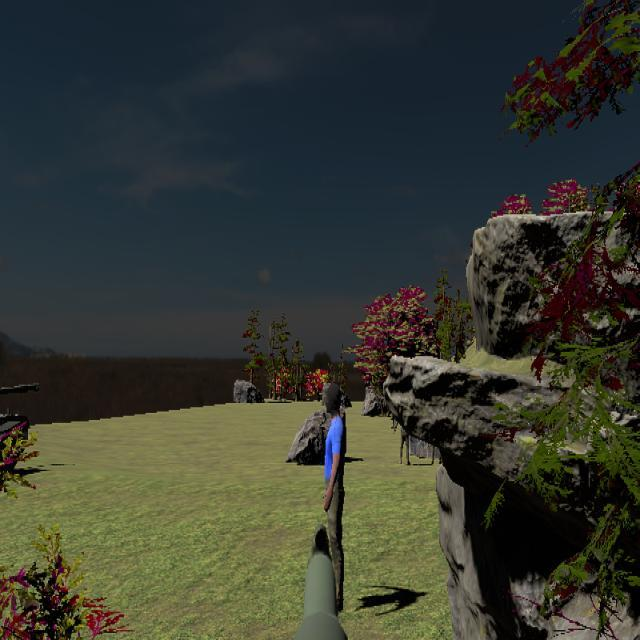Human: (321, 379, 348, 617)
Tank: (0, 381, 41, 482)
